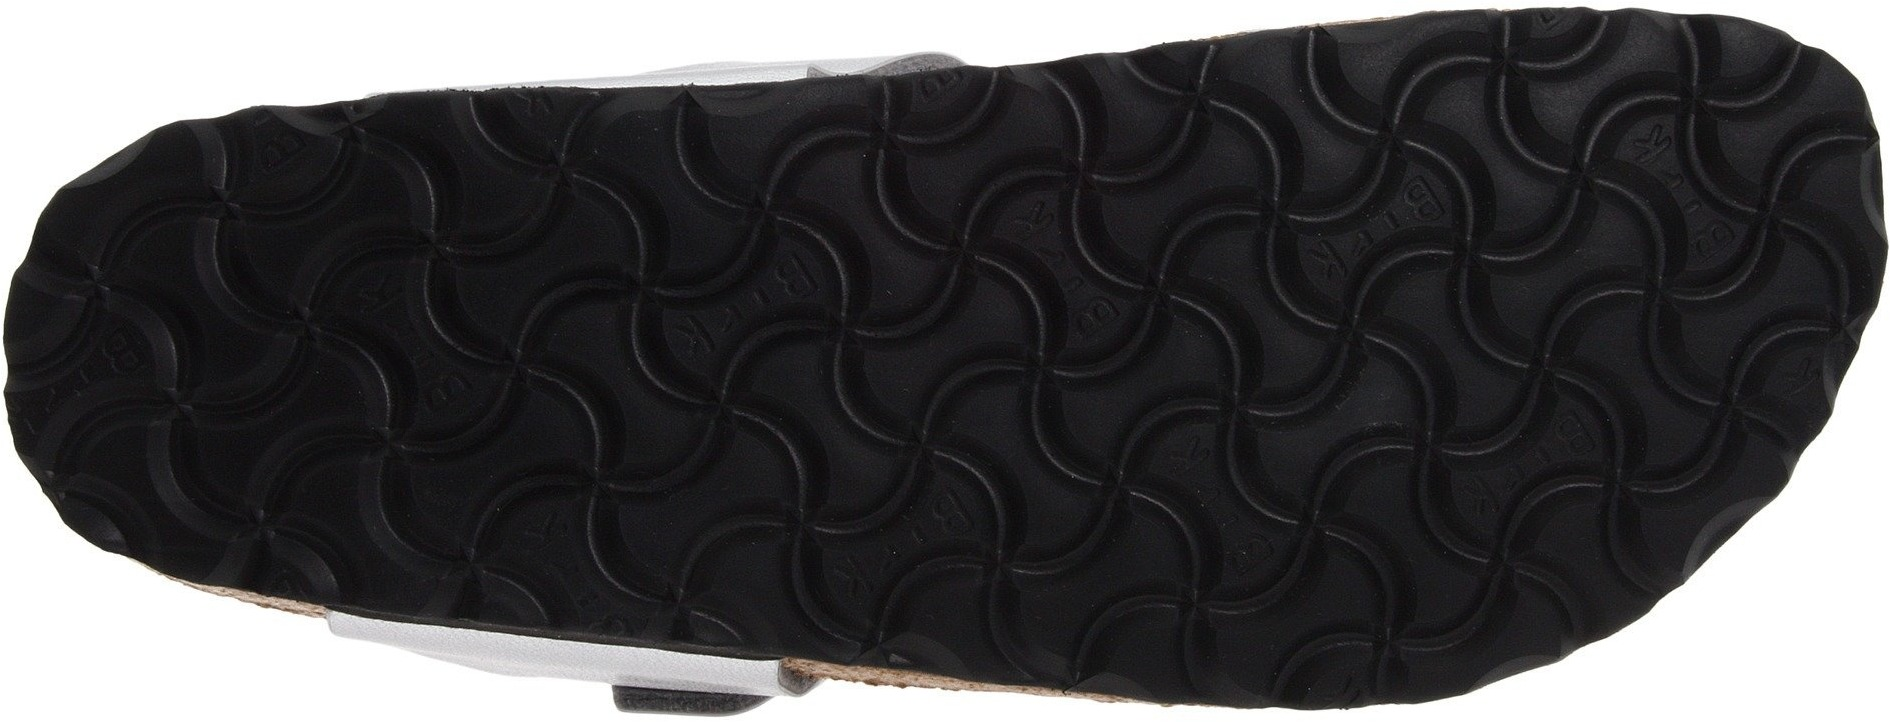bowtie: (1362, 20, 1780, 433), (943, 75, 1358, 447), (601, 99, 931, 433), (284, 121, 595, 415), (1141, 453, 1383, 702), (40, 243, 276, 466), (1390, 439, 1608, 642), (729, 445, 916, 650), (284, 422, 459, 620), (499, 439, 674, 609)
